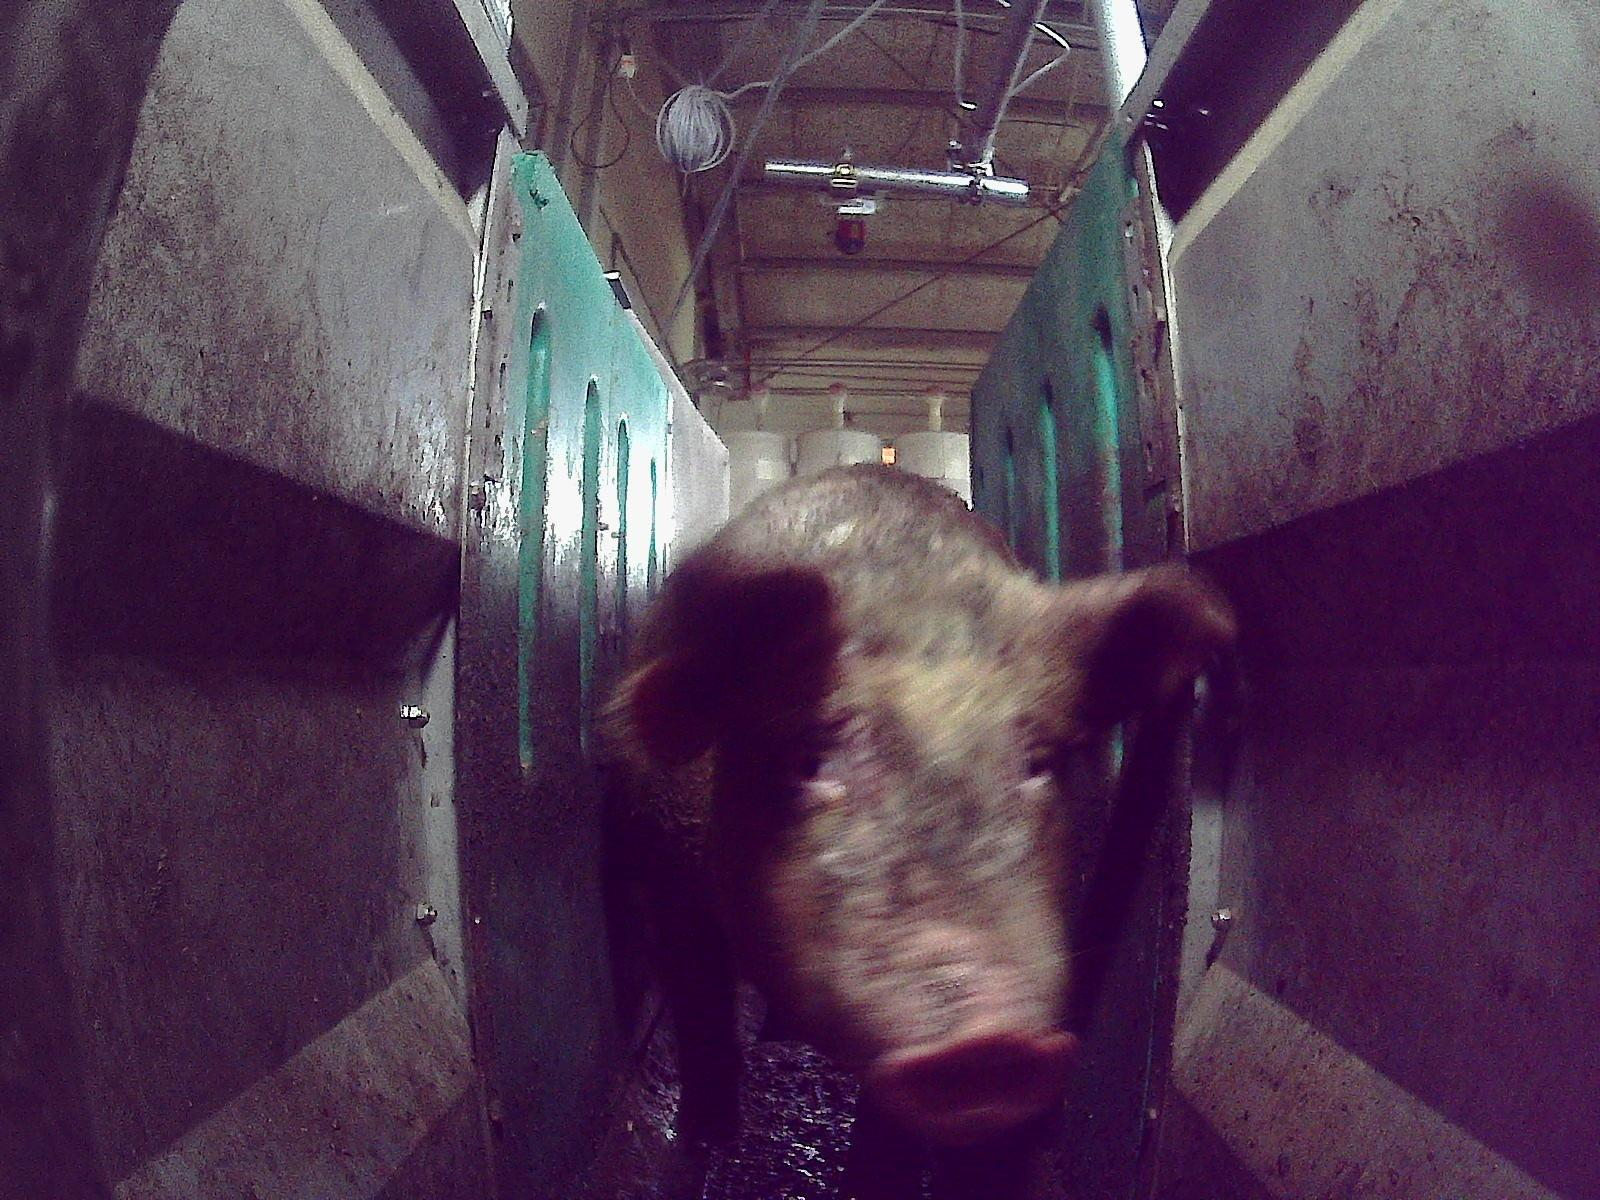Face: (723, 588, 1083, 1135)
